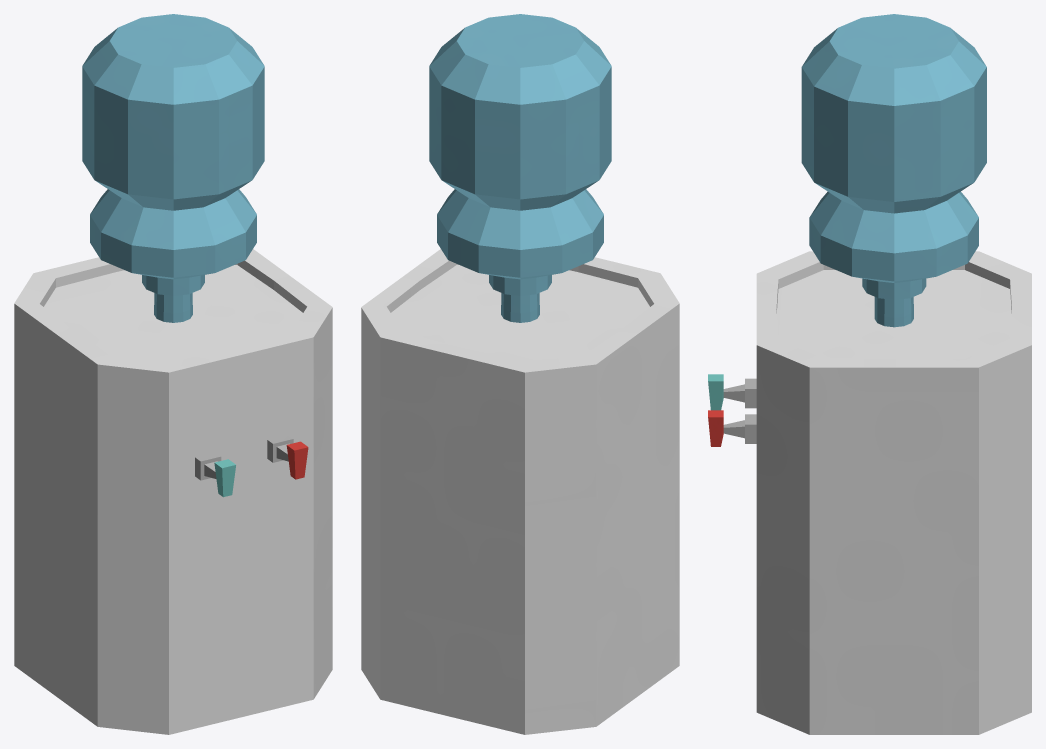
Rendered from Water_Machine.fbx.
3 renders of one model, left to right at view 1: azimuth 30°, elevation 25°; view 2: azimuth 150°, elevation 25°; view 3: azimuth 270°, elevation 25°, orthographic.
Visible parts, largest first — view 1: Water_Machine; view 2: Water_Machine; view 3: Water_Machine.
Boxes of the visible parts, bbox=[...] form: Water_Machine: bbox=[14, 14, 332, 734]; Water_Machine: bbox=[361, 14, 679, 734]; Water_Machine: bbox=[708, 14, 1031, 734].
Bounding box in the file's own units: 0.5737 × 1.46 × 0.675.
